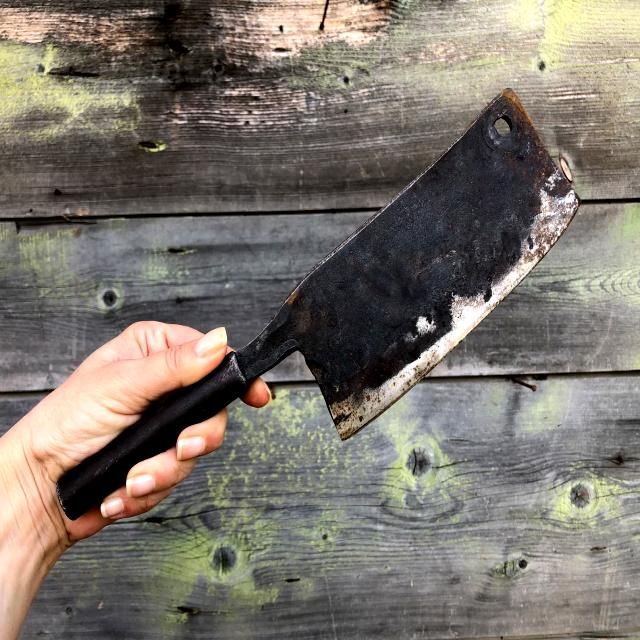cleaver: (26, 88, 579, 562)
